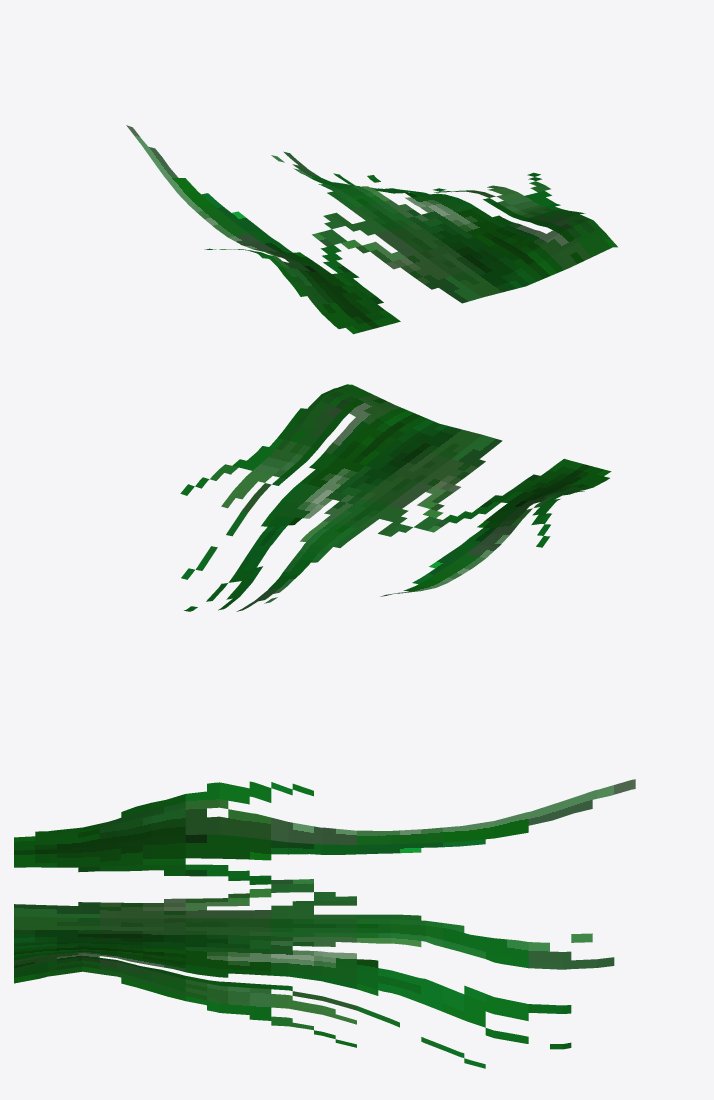
Rendered from groundNormals.dae.
3 views of the same model, one above another, from view 1: azimuth 30°, elevation 25°; view 2: azimuth 150°, elevation 25°; view 3: azimuth 270°, elevation 25° (orthographic). The views are drawn at different scales.
Parts seen in each view (by area): view 1: pPlane1; view 2: pPlane1; view 3: pPlane1.
Part boxes in pixels (box(x1,y1,x2,y2)): pPlane1: box(126, 125, 617, 334); pPlane1: box(180, 384, 611, 611); pPlane1: box(14, 779, 635, 1068).
Bounding box in the file's own units: 193 × 58.39 × 193.
